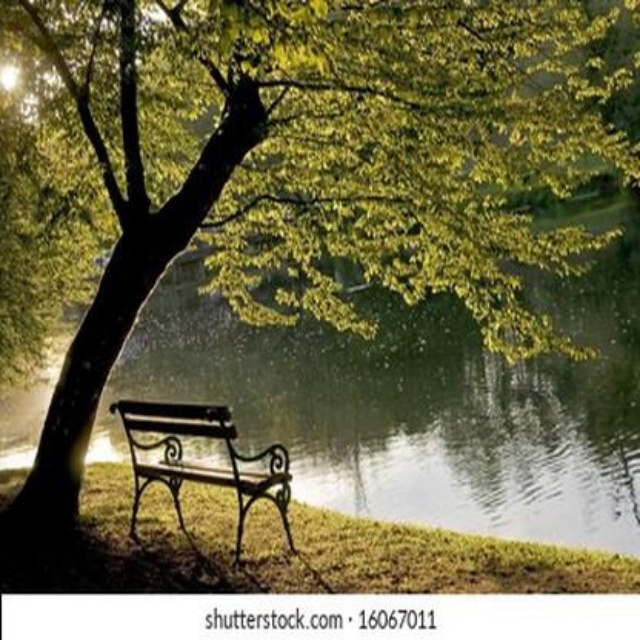obstacle: (98, 389, 320, 571)
